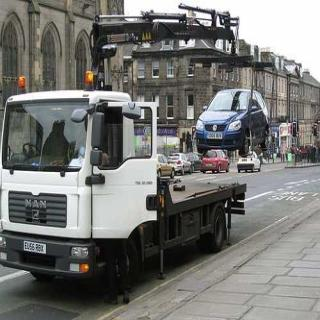Towing_truck: (1, 86, 247, 296)
